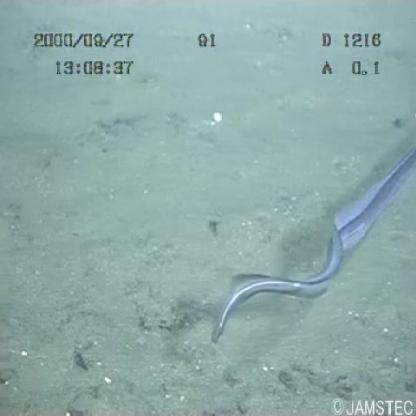Bio: (209, 139, 416, 345)
